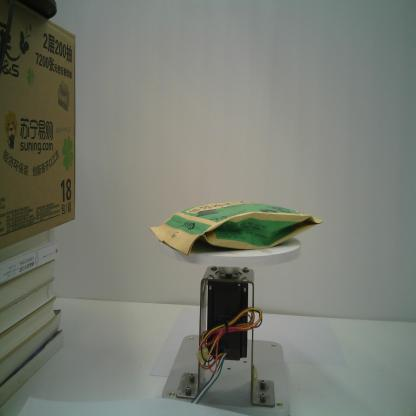Dried Food: (148, 200, 324, 259)
